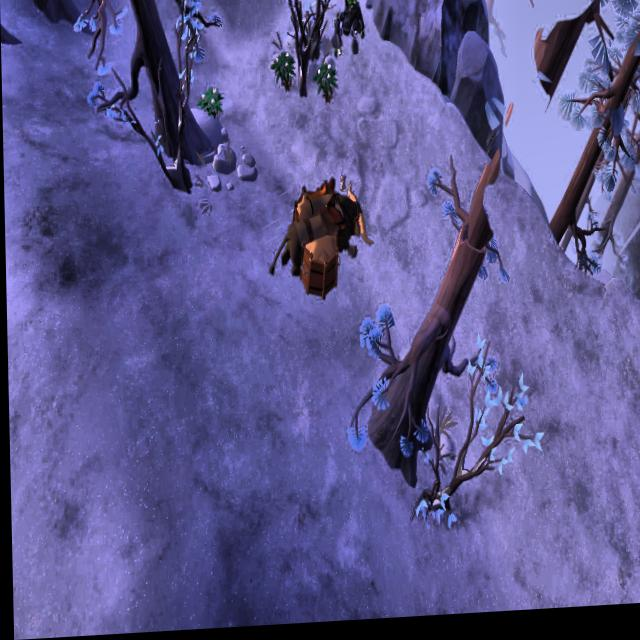fiber_t3: (309, 62, 335, 107), (270, 53, 296, 96), (195, 86, 223, 120)
